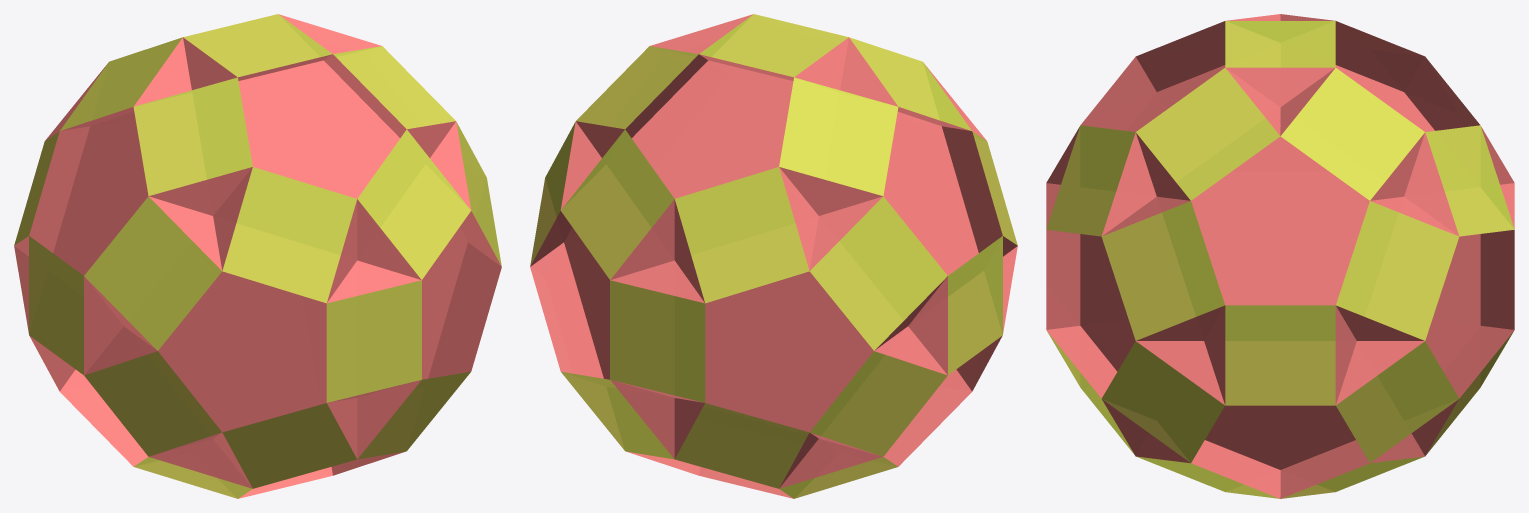
File: SmallRhombidodecahedron.obj
3 views of the same model, side by side, from view 1: azimuth 30°, elevation 25°; view 2: azimuth 150°, elevation 25°; view 3: azimuth 270°, elevation 25° (orthographic).
Size of the model in its own units: 4.24 by 4.24 by 4.24.
